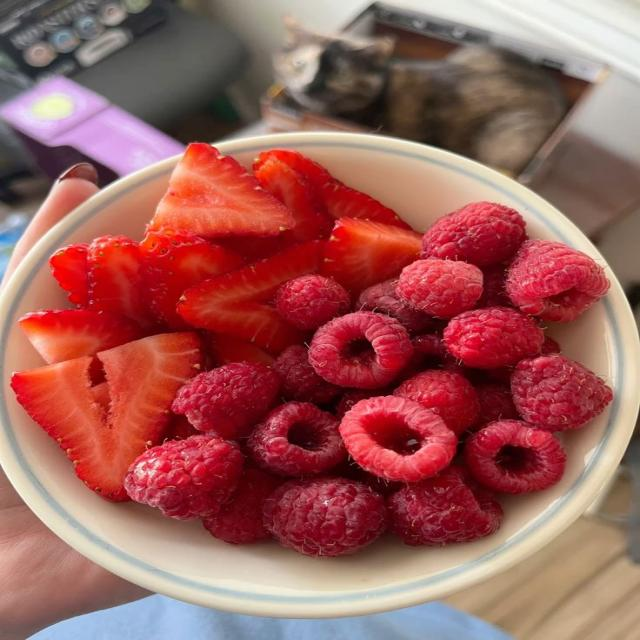raspberry: (125, 434, 244, 519), (340, 397, 457, 482), (264, 478, 386, 556), (387, 467, 502, 546), (507, 241, 609, 322), (173, 363, 279, 439), (309, 312, 413, 388), (512, 355, 612, 430), (464, 421, 566, 493), (247, 402, 346, 476), (421, 202, 526, 266), (444, 307, 544, 369), (204, 468, 283, 544), (394, 370, 479, 434), (397, 259, 482, 317), (354, 279, 432, 333), (276, 275, 350, 329), (273, 346, 341, 404), (410, 334, 468, 377), (340, 462, 402, 496), (476, 383, 519, 425), (335, 388, 393, 418), (477, 265, 511, 307), (413, 333, 446, 364), (165, 415, 200, 440), (474, 367, 513, 386), (541, 336, 561, 354)
strawberry sliced: (10, 332, 203, 500), (177, 241, 323, 352), (148, 143, 294, 238), (258, 149, 408, 228), (140, 228, 243, 329), (320, 217, 421, 296), (320, 218, 421, 296), (254, 155, 331, 243), (18, 310, 143, 363), (89, 236, 150, 326), (50, 245, 88, 306), (216, 235, 283, 262), (124, 0, 150, 12)
